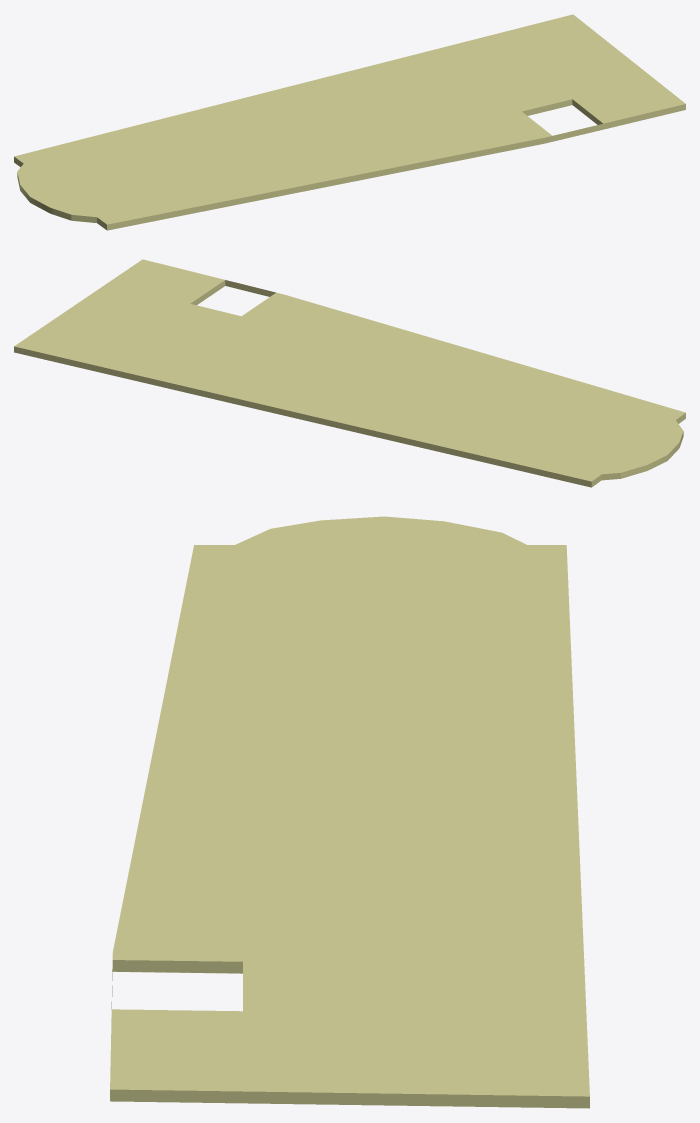
The model's file is PisosPiso2.fbx.
3 views of the same model, one above another, from view 1: azimuth 30°, elevation 25°; view 2: azimuth 150°, elevation 25°; view 3: azimuth 270°, elevation 25° (orthographic). The views are drawn at different scales.
Visible parts, largest first — view 1: pCube1; view 2: pCube1; view 3: pCube1.
Part boxes in pixels (x1=…): pCube1: x1=14, y1=14, x2=685, y2=230; pCube1: x1=14, y1=259, x2=685, y2=487; pCube1: x1=110, y1=516, x2=589, y2=1108.
Size of the model in its own units: 25.96 by 0.2489 by 9.08.
